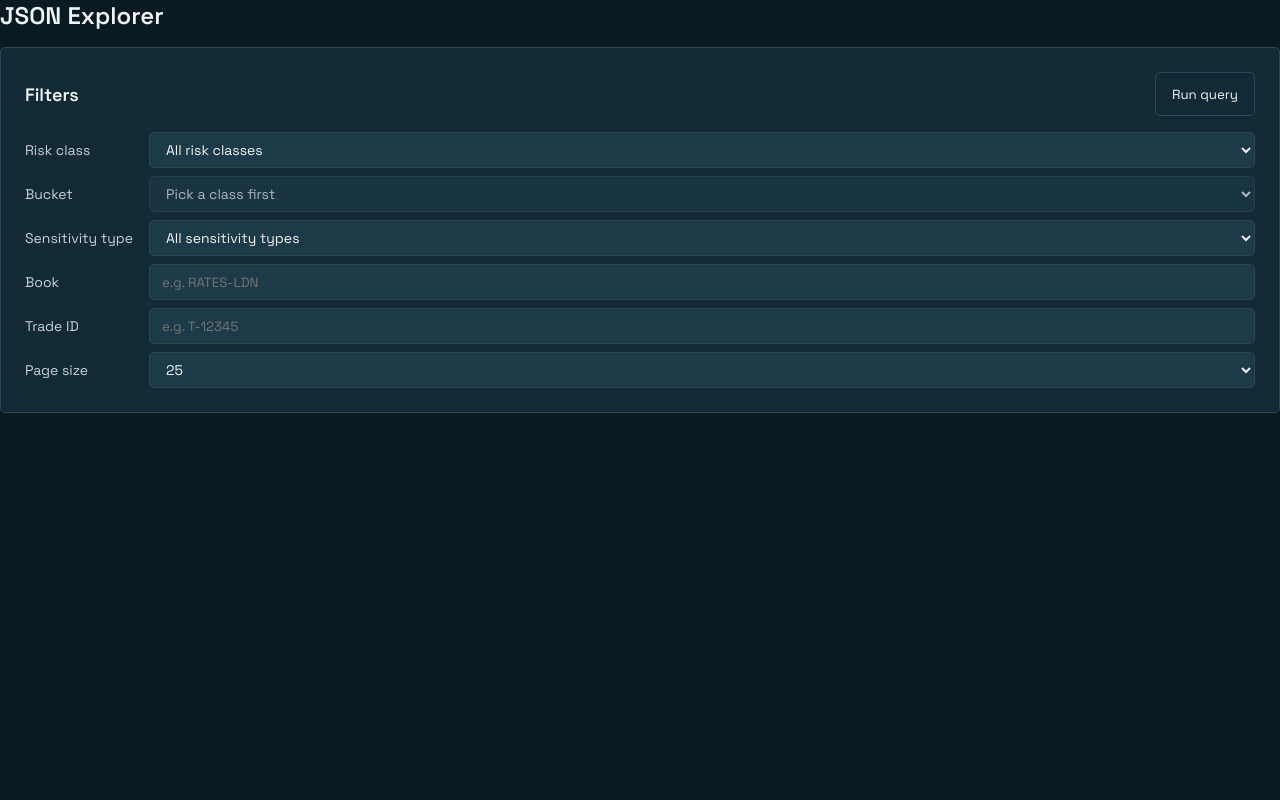
Test: JsonExplorerPanel › key-contains filter narrows rendered rows client-side without re-fetching
This screenshot has width=1280, height=800.
Click the button "Run query". click: (1205, 94)
box: [1155,72,1255,116]
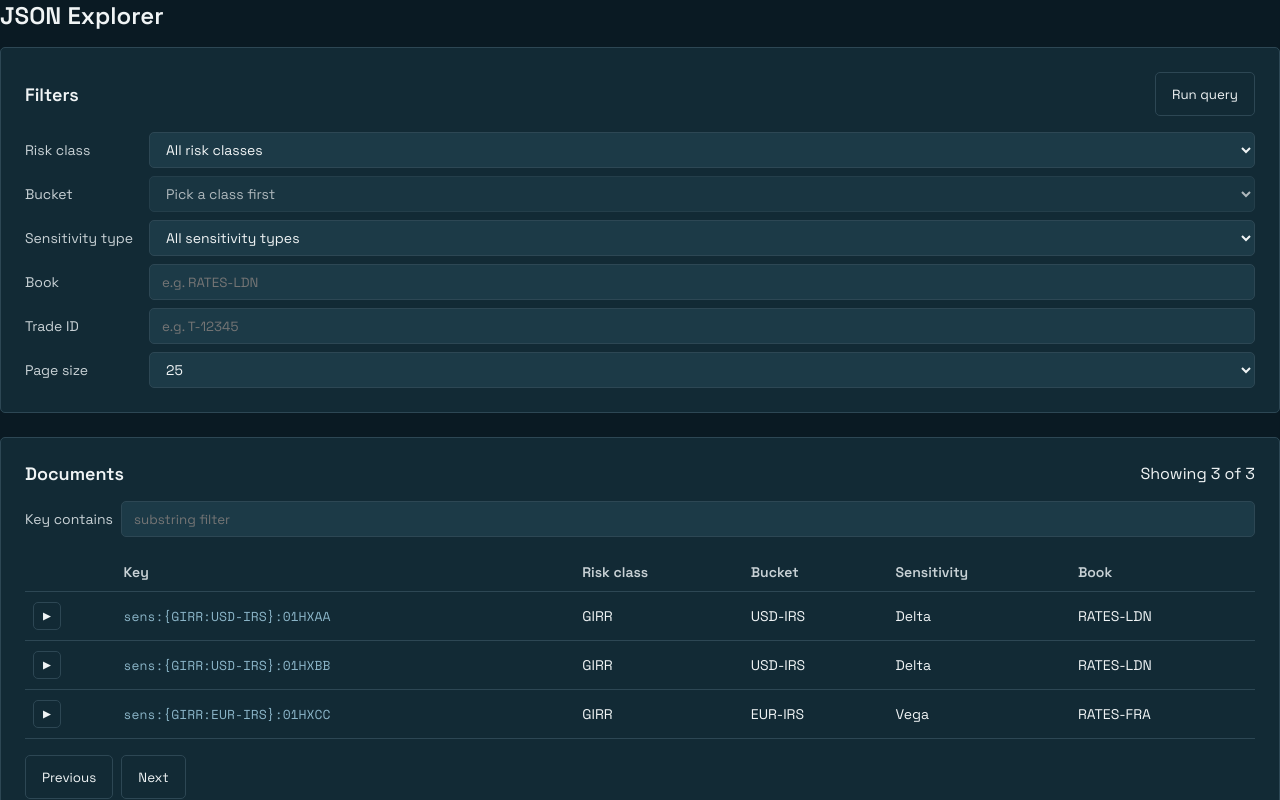
Result: the number of rows with test id "explorer-row" is 3 at [25,592,1255,640]; [25,640,1255,690]; [25,690,1255,738]
Type "EUR-IRS" into the field labelled "Key contains". click: (688, 519)
box: [121,501,1255,537]
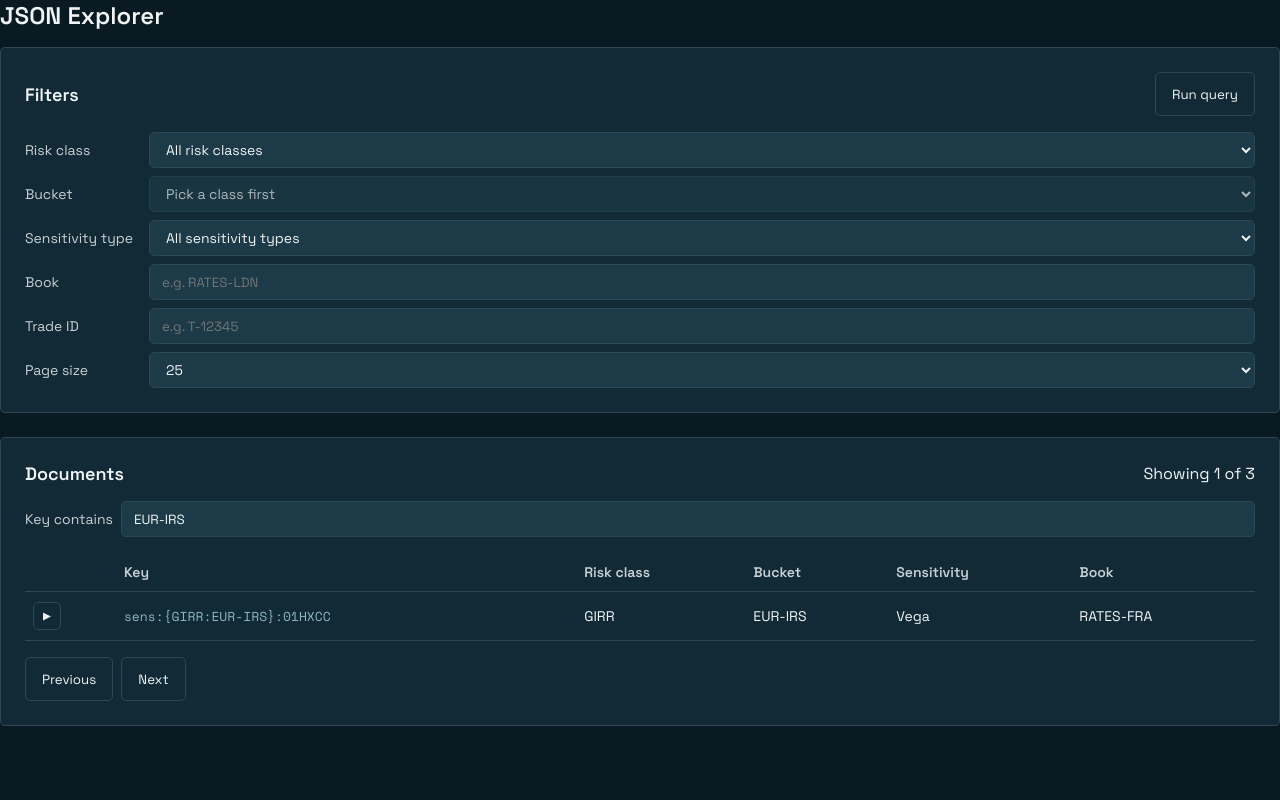
Result: the text "sens:{GIRR:EUR-IRS}:01HXCC" is shown at [124,606,331,626]
Result: the number of rows with test id "explorer-row" is 1 at [25,592,1255,640]
